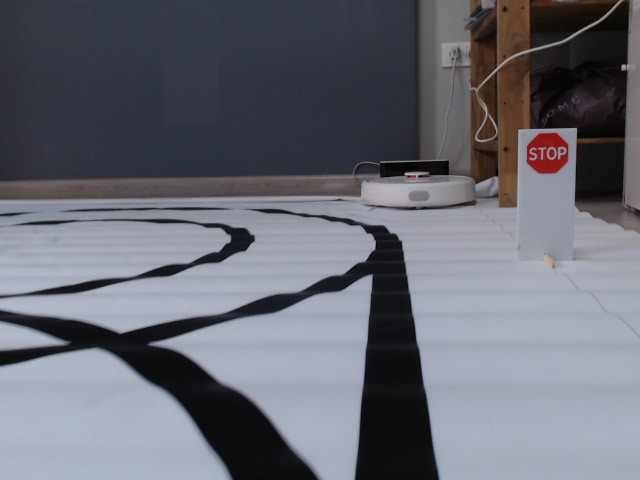Stop: (525, 131, 569, 174)
